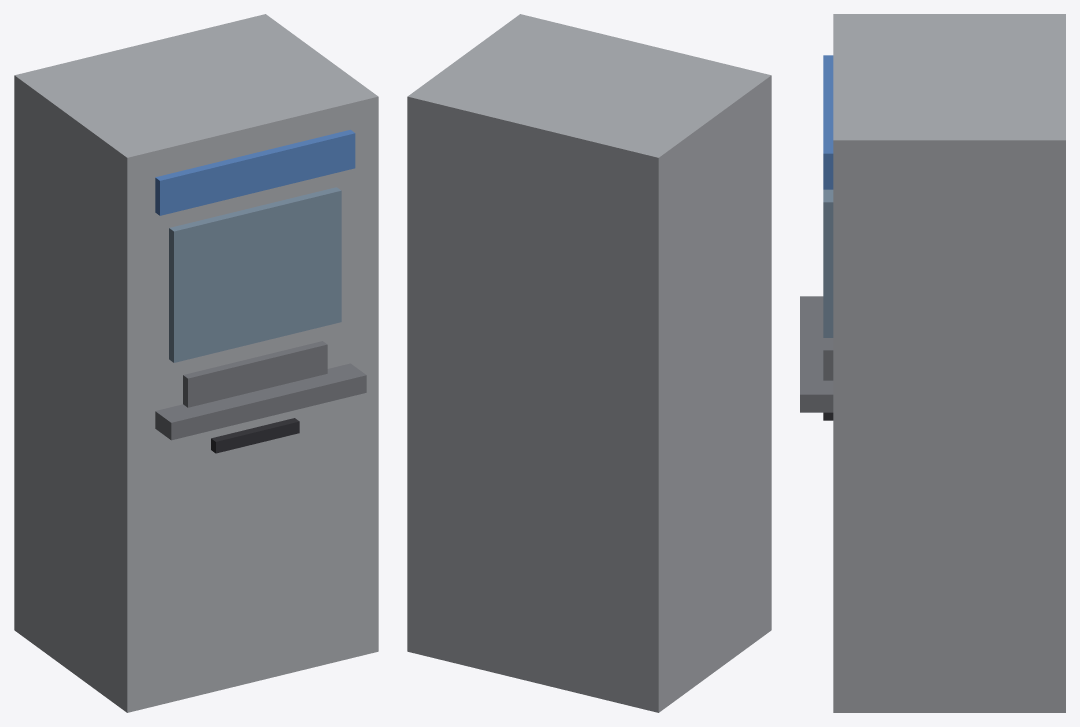
File: ATM.glb
3 views of the same model, side by side, from view 1: azimuth 30°, elevation 25°; view 2: azimuth 150°, elevation 25°; view 3: azimuth 270°, elevation 25° (orthographic). The views are drawn at different scales.
Parts seen in each view (by area): view 1: ATM; view 2: ATM; view 3: ATM.
Part boxes in pixels (x1,y1,x2,y2): ATM: (14, 14, 378, 712); ATM: (407, 14, 771, 712); ATM: (800, 14, 1065, 712).
Bounding box in the file's own units: 0.9 × 1.9 × 0.8.
